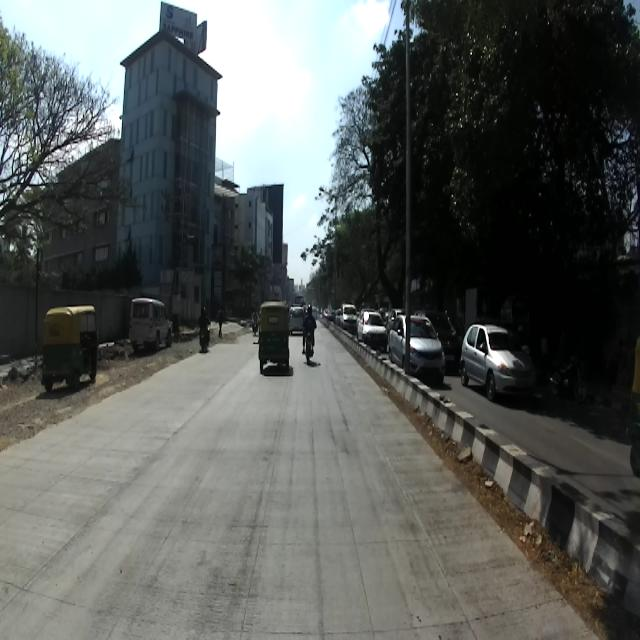auto ahead at: (34, 296, 101, 392), (252, 299, 296, 375)
